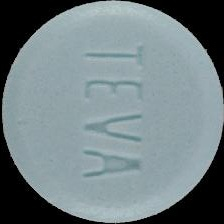0615-7800: (0, 0, 224, 224)
